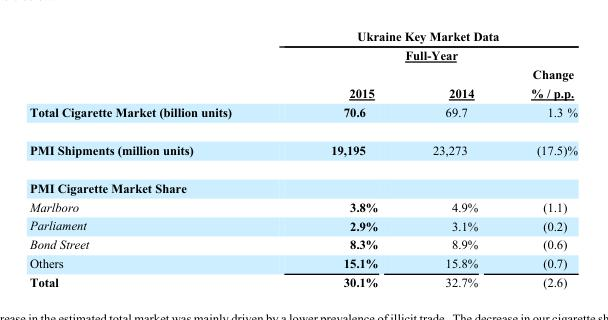table: (29, 28, 576, 289)
table column: (29, 28, 280, 289), (280, 28, 404, 289), (404, 28, 503, 289), (503, 28, 576, 289)
table column header: (29, 28, 576, 102)
table projected row header: (29, 168, 576, 196)
table row: (29, 64, 576, 102), (29, 130, 576, 168), (29, 28, 576, 64), (29, 102, 576, 130), (29, 168, 576, 196), (29, 196, 576, 215), (29, 215, 576, 234), (29, 234, 576, 253), (29, 253, 576, 272), (29, 272, 576, 289)
table spanning cell: (280, 28, 576, 64)
